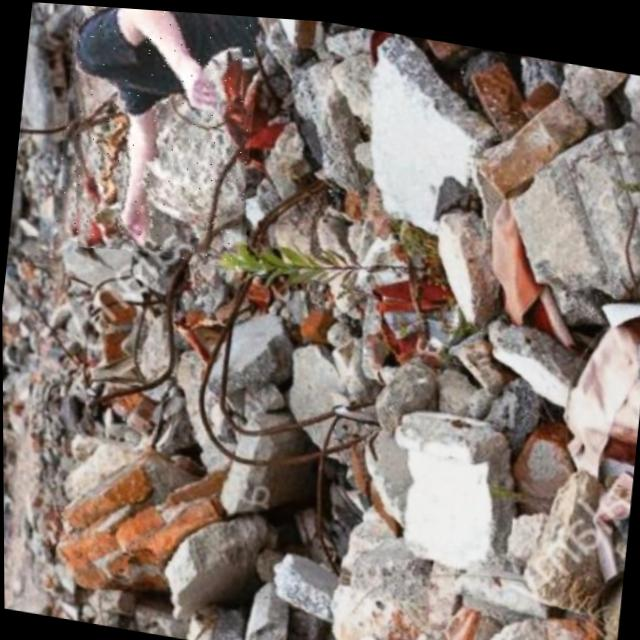Person in Rubble: (52, 3, 264, 266)
